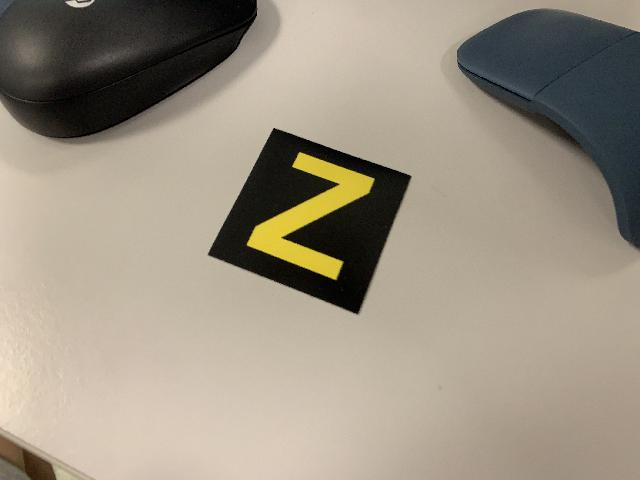alphabet_z: (204, 127, 413, 317)
